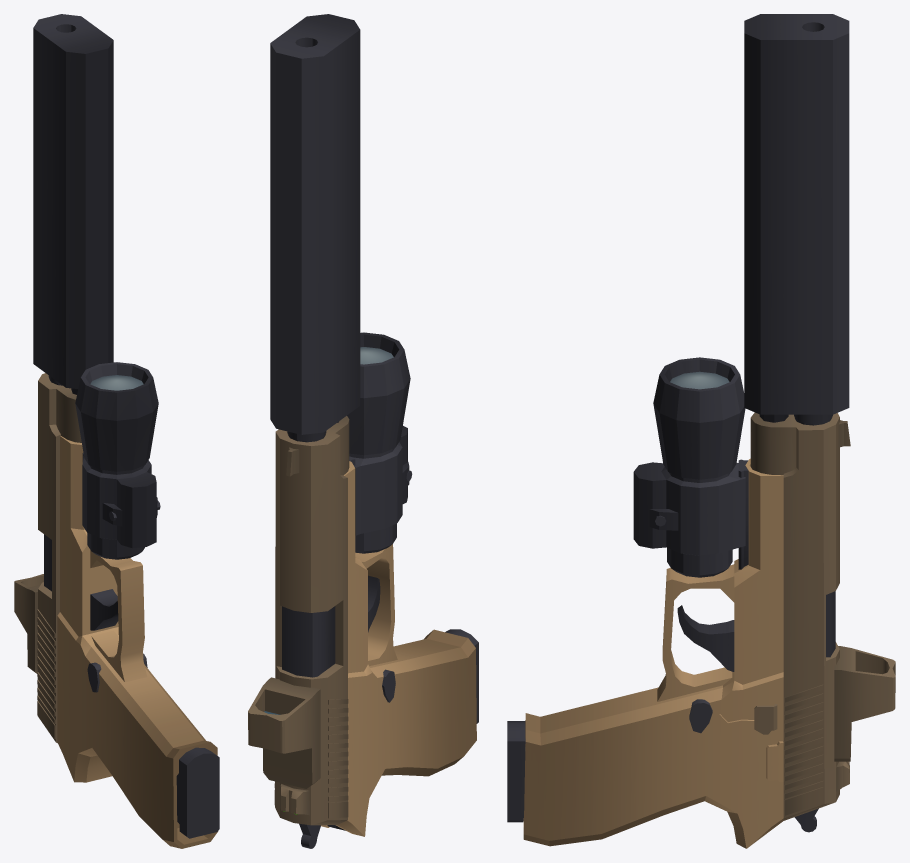
The model's file is Sig.FBX.
3 views of the same model, side by side, from view 1: azimuth 30°, elevation 25°; view 2: azimuth 150°, elevation 25°; view 3: azimuth 270°, elevation 25° (orthographic). The views are drawn at different scales.
Parts seen in each view (by area): view 1: P_Silencer, P_Base, P_Flashlight, P_Top, P_Mag, P_RDS, P_BTrigger; view 2: P_Silencer, P_Base, P_Top, P_Flashlight, P_RDS, P_BTrigger; view 3: P_Base, P_Silencer, P_Top, P_Flashlight, P_RDS, P_Mag, P_BTrigger.
Part boxes in pixels (<box>): P_Silencer: <box>33,14,113,394</box>; P_Base: <box>44,379,218,848</box>; P_Flashlight: <box>75,362,160,559</box>; P_Top: <box>37,373,81,742</box>; P_Mag: <box>176,747,219,838</box>; P_RDS: <box>14,574,43,673</box>; P_BTrigger: <box>90,589,118,630</box>; P_Silencer: <box>270,14,360,440</box>; P_Base: <box>282,435,476,836</box>; P_Top: <box>274,416,349,825</box>; P_Flashlight: <box>347,332,412,553</box>; P_RDS: <box>248,677,320,788</box>; P_BTrigger: <box>368,575,380,632</box>; P_Base: <box>523,418,835,848</box>; P_Silencer: <box>744,14,849,423</box>; P_Top: <box>750,412,850,820</box>; P_Flashlight: <box>633,357,745,577</box>; P_RDS: <box>834,646,895,761</box>; P_Mag: <box>507,721,525,822</box>; P_BTrigger: <box>677,605,734,671</box>.
Bounding box in the file's own units: 0.123 × 1.18 × 0.5135.
